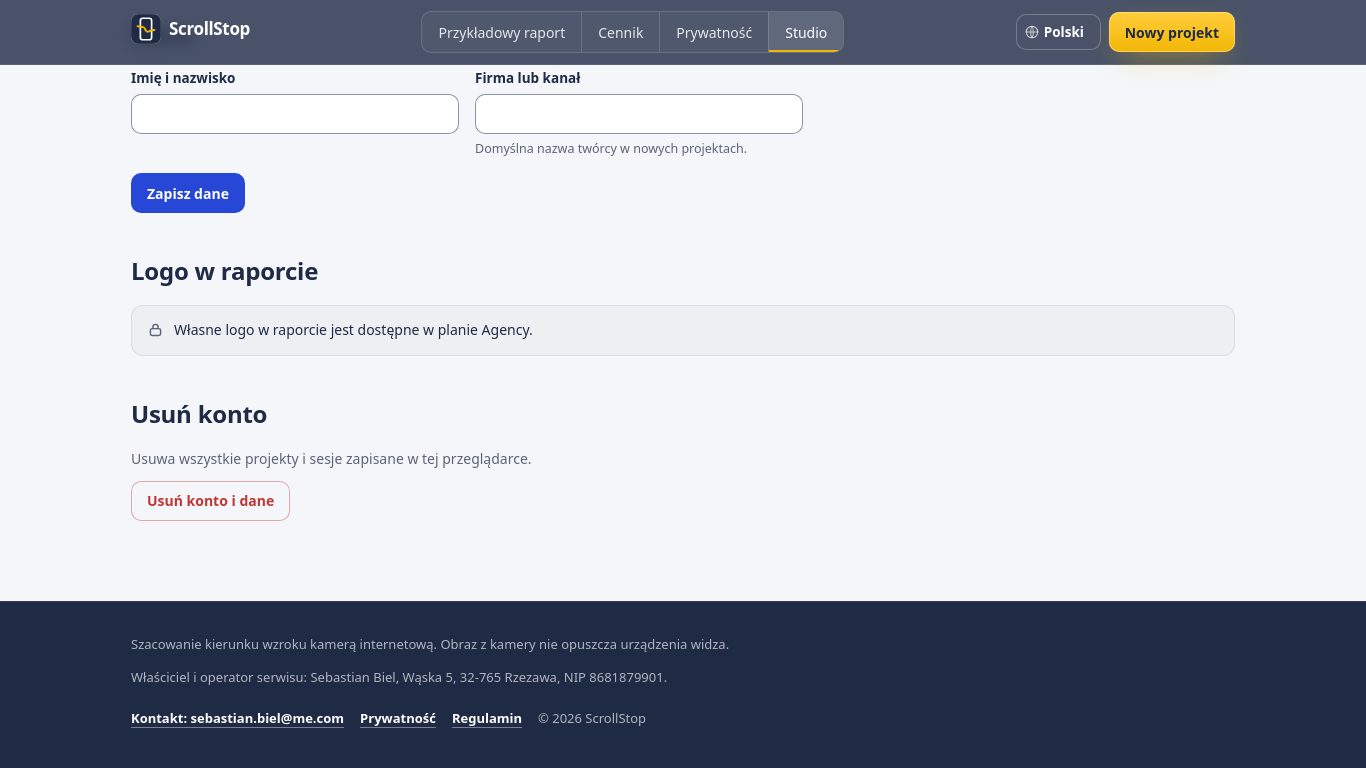
Scenario: studio lokalne (M4) › konto: usunięcie wymaga wpisania słowa potwierdzenia
(page scrolled)
Click the button "Usuń konto i dane" at (211, 501), box [131, 481, 290, 521]
(page scrolled)
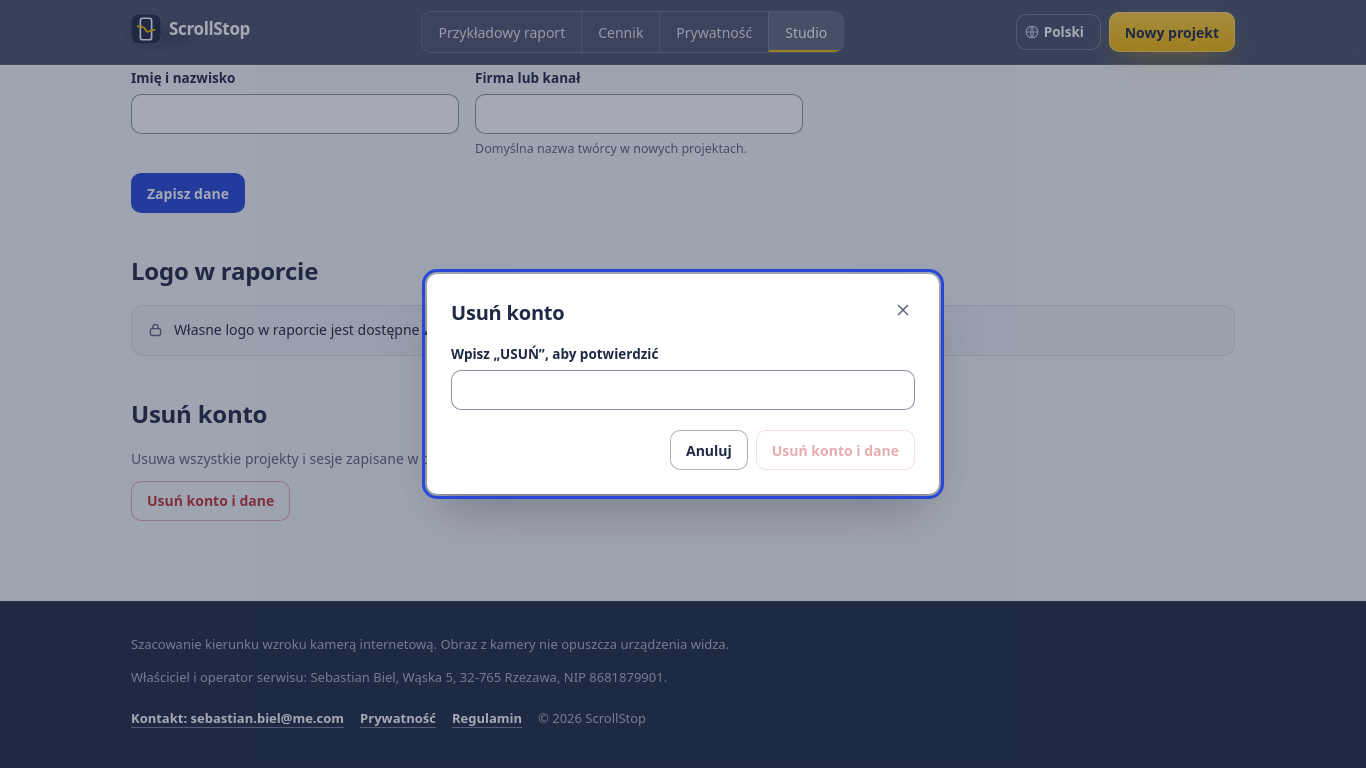
Check: the button "Usuń konto i dane" is disabled, box [756, 430, 915, 470]
Type "usuń" into the field labelled "Wpisz „USUŃ”, aby potwierdzić" at (683, 390), box [451, 370, 915, 410]
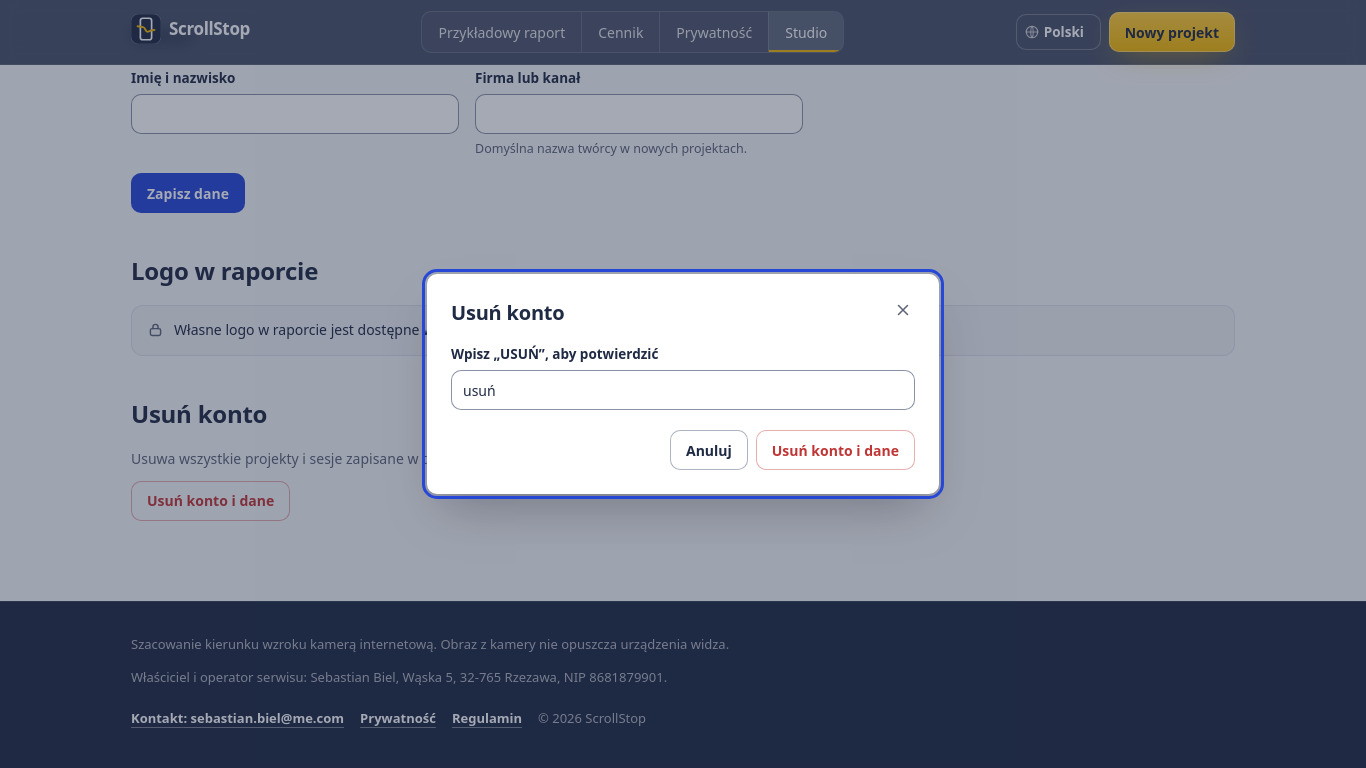
Check: the button "Usuń konto i dane" is enabled, box [756, 430, 915, 470]
